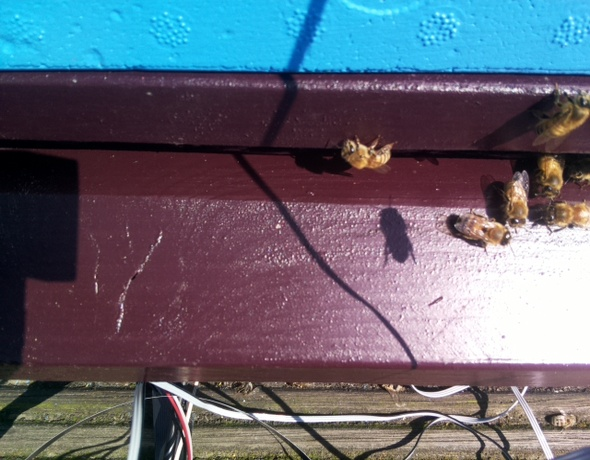no_pollen: (532, 89, 590, 146), (451, 208, 513, 251), (340, 136, 394, 173), (501, 176, 532, 232), (539, 199, 590, 232), (532, 154, 566, 201)
